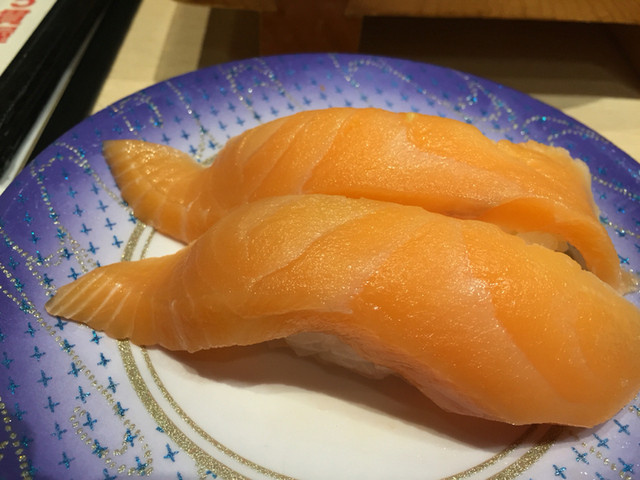salmon: (44, 197, 640, 443)
